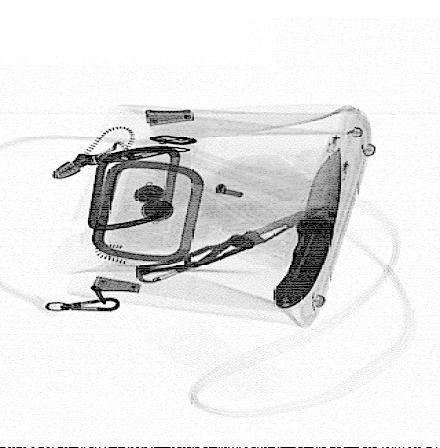Knife: (135, 206, 324, 284), (274, 147, 342, 309)
